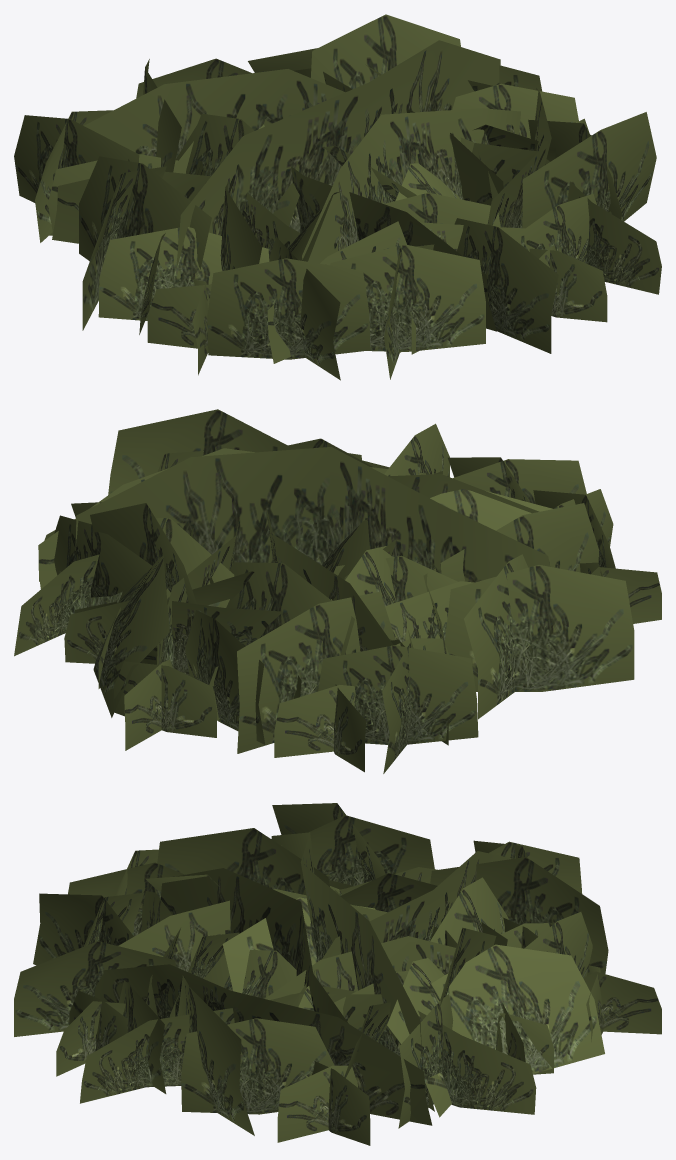
The model's file is SM_Grass_big_clump_B.fbx.
3 views of the same model, one above another, from view 1: azimuth 30°, elevation 25°; view 2: azimuth 150°, elevation 25°; view 3: azimuth 270°, elevation 25° (orthographic). The views are drawn at different scales.
Visible parts, largest first — view 1: SM_Grass_big_clump_B; view 2: SM_Grass_big_clump_B; view 3: SM_Grass_big_clump_B.
Part boxes in pixels (x1=…): SM_Grass_big_clump_B: x1=14, y1=14, x2=661, y2=380; SM_Grass_big_clump_B: x1=14, y1=409, x2=661, y2=773; SM_Grass_big_clump_B: x1=14, y1=803, x2=661, y2=1145.
Bounding box in the file's own units: 211 × 65.01 × 225.
